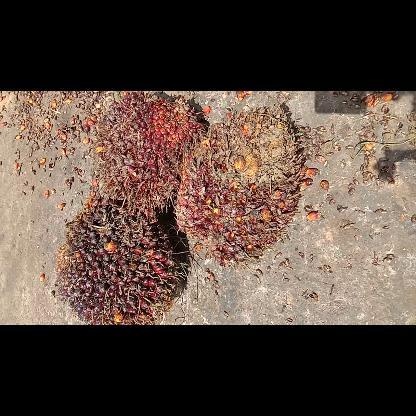Kurang masak: (173, 103, 307, 267)
TBS masak: (54, 198, 190, 322), (100, 95, 204, 214)
